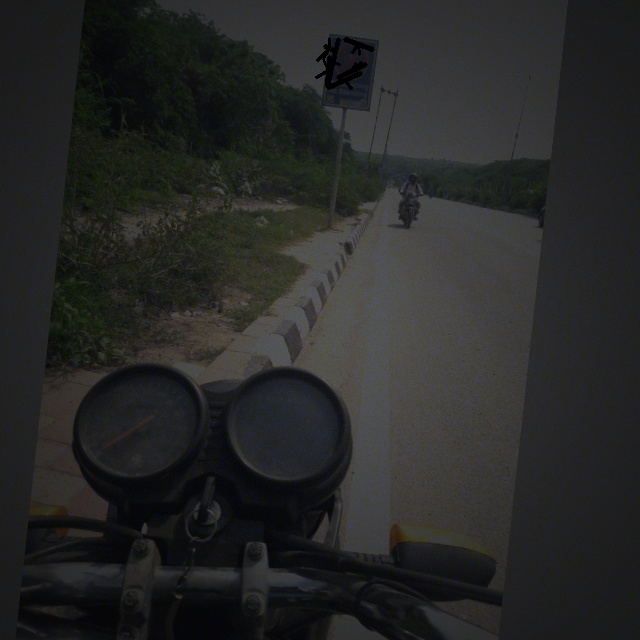No_Stopping_or_Standing: (325, 34, 381, 88)
